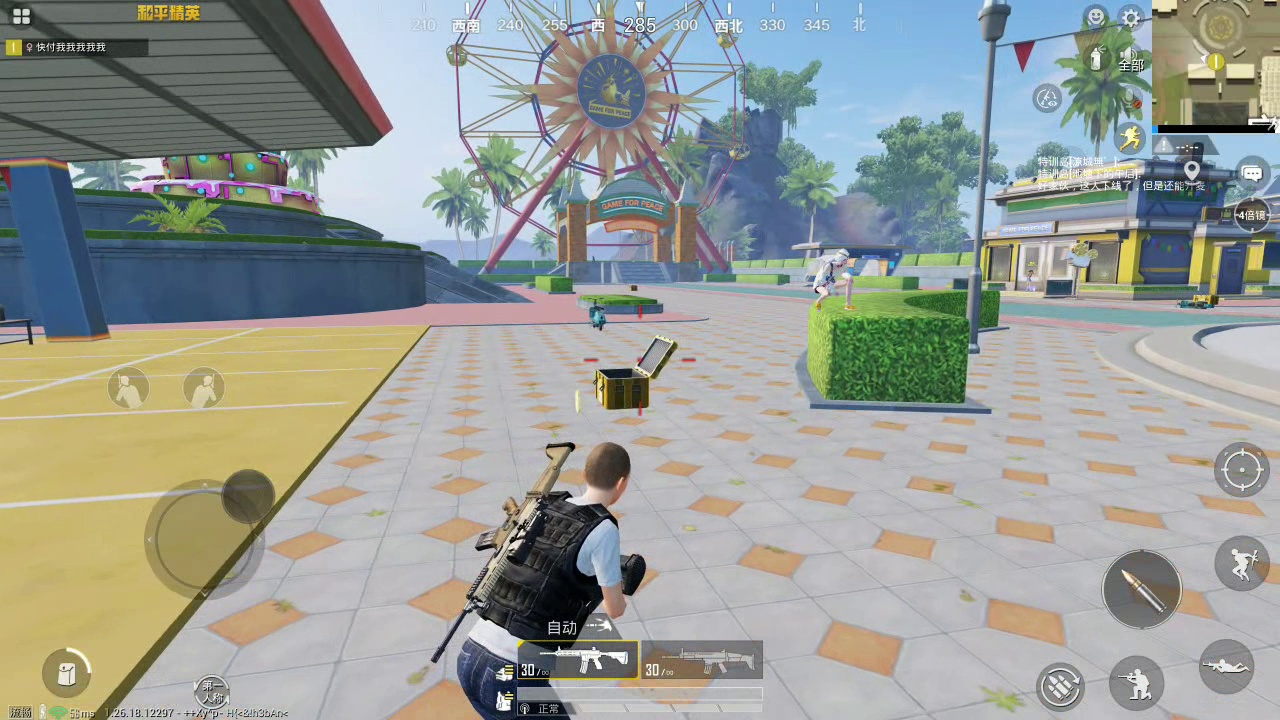enemy: (814, 251, 856, 310)
